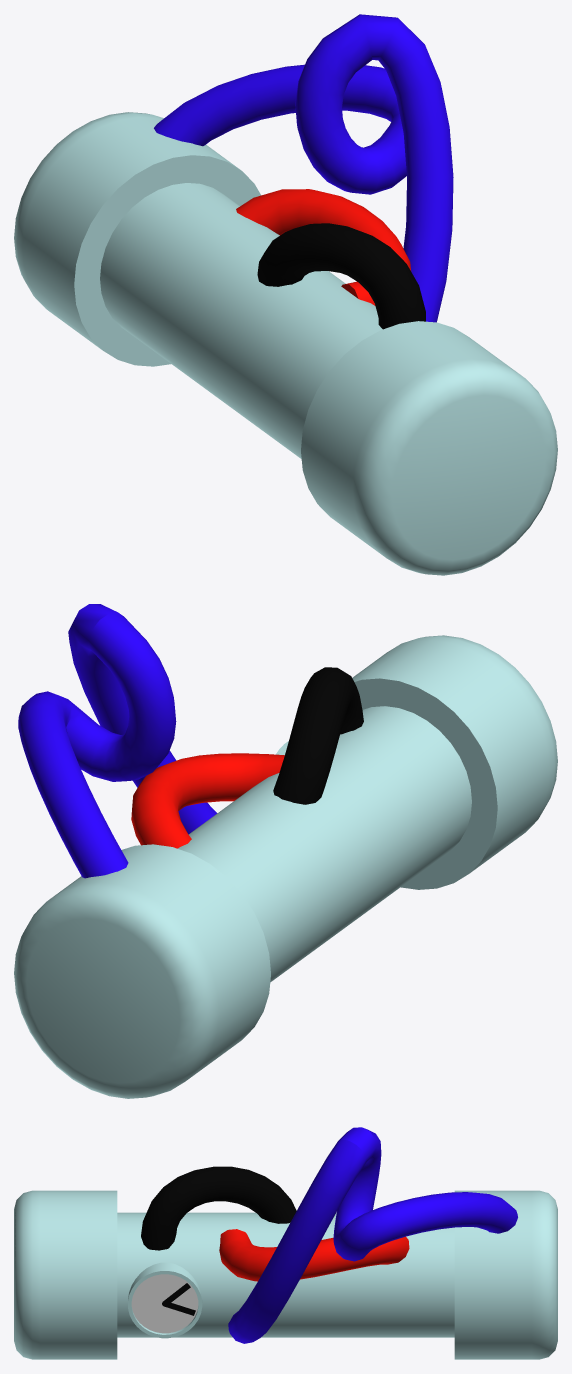
Rendered from UnstablePipeBomb.fbx.
3 renders of one model, top to bottom at view 1: azimuth 30°, elevation 25°; view 2: azimuth 150°, elevation 25°; view 3: azimuth 270°, elevation 25°, orthographic. The views are drawn at different scales.
Parts seen in each view (by area): view 1: Circle.001; view 2: Circle.001; view 3: Circle.001.
Boxes of the visible parts, bbox=[...] form: Circle.001: bbox=[14, 14, 557, 575]; Circle.001: bbox=[14, 604, 557, 1098]; Circle.001: bbox=[14, 1127, 557, 1359].
Size of the model in its own units: 305 by 352 by 643.
